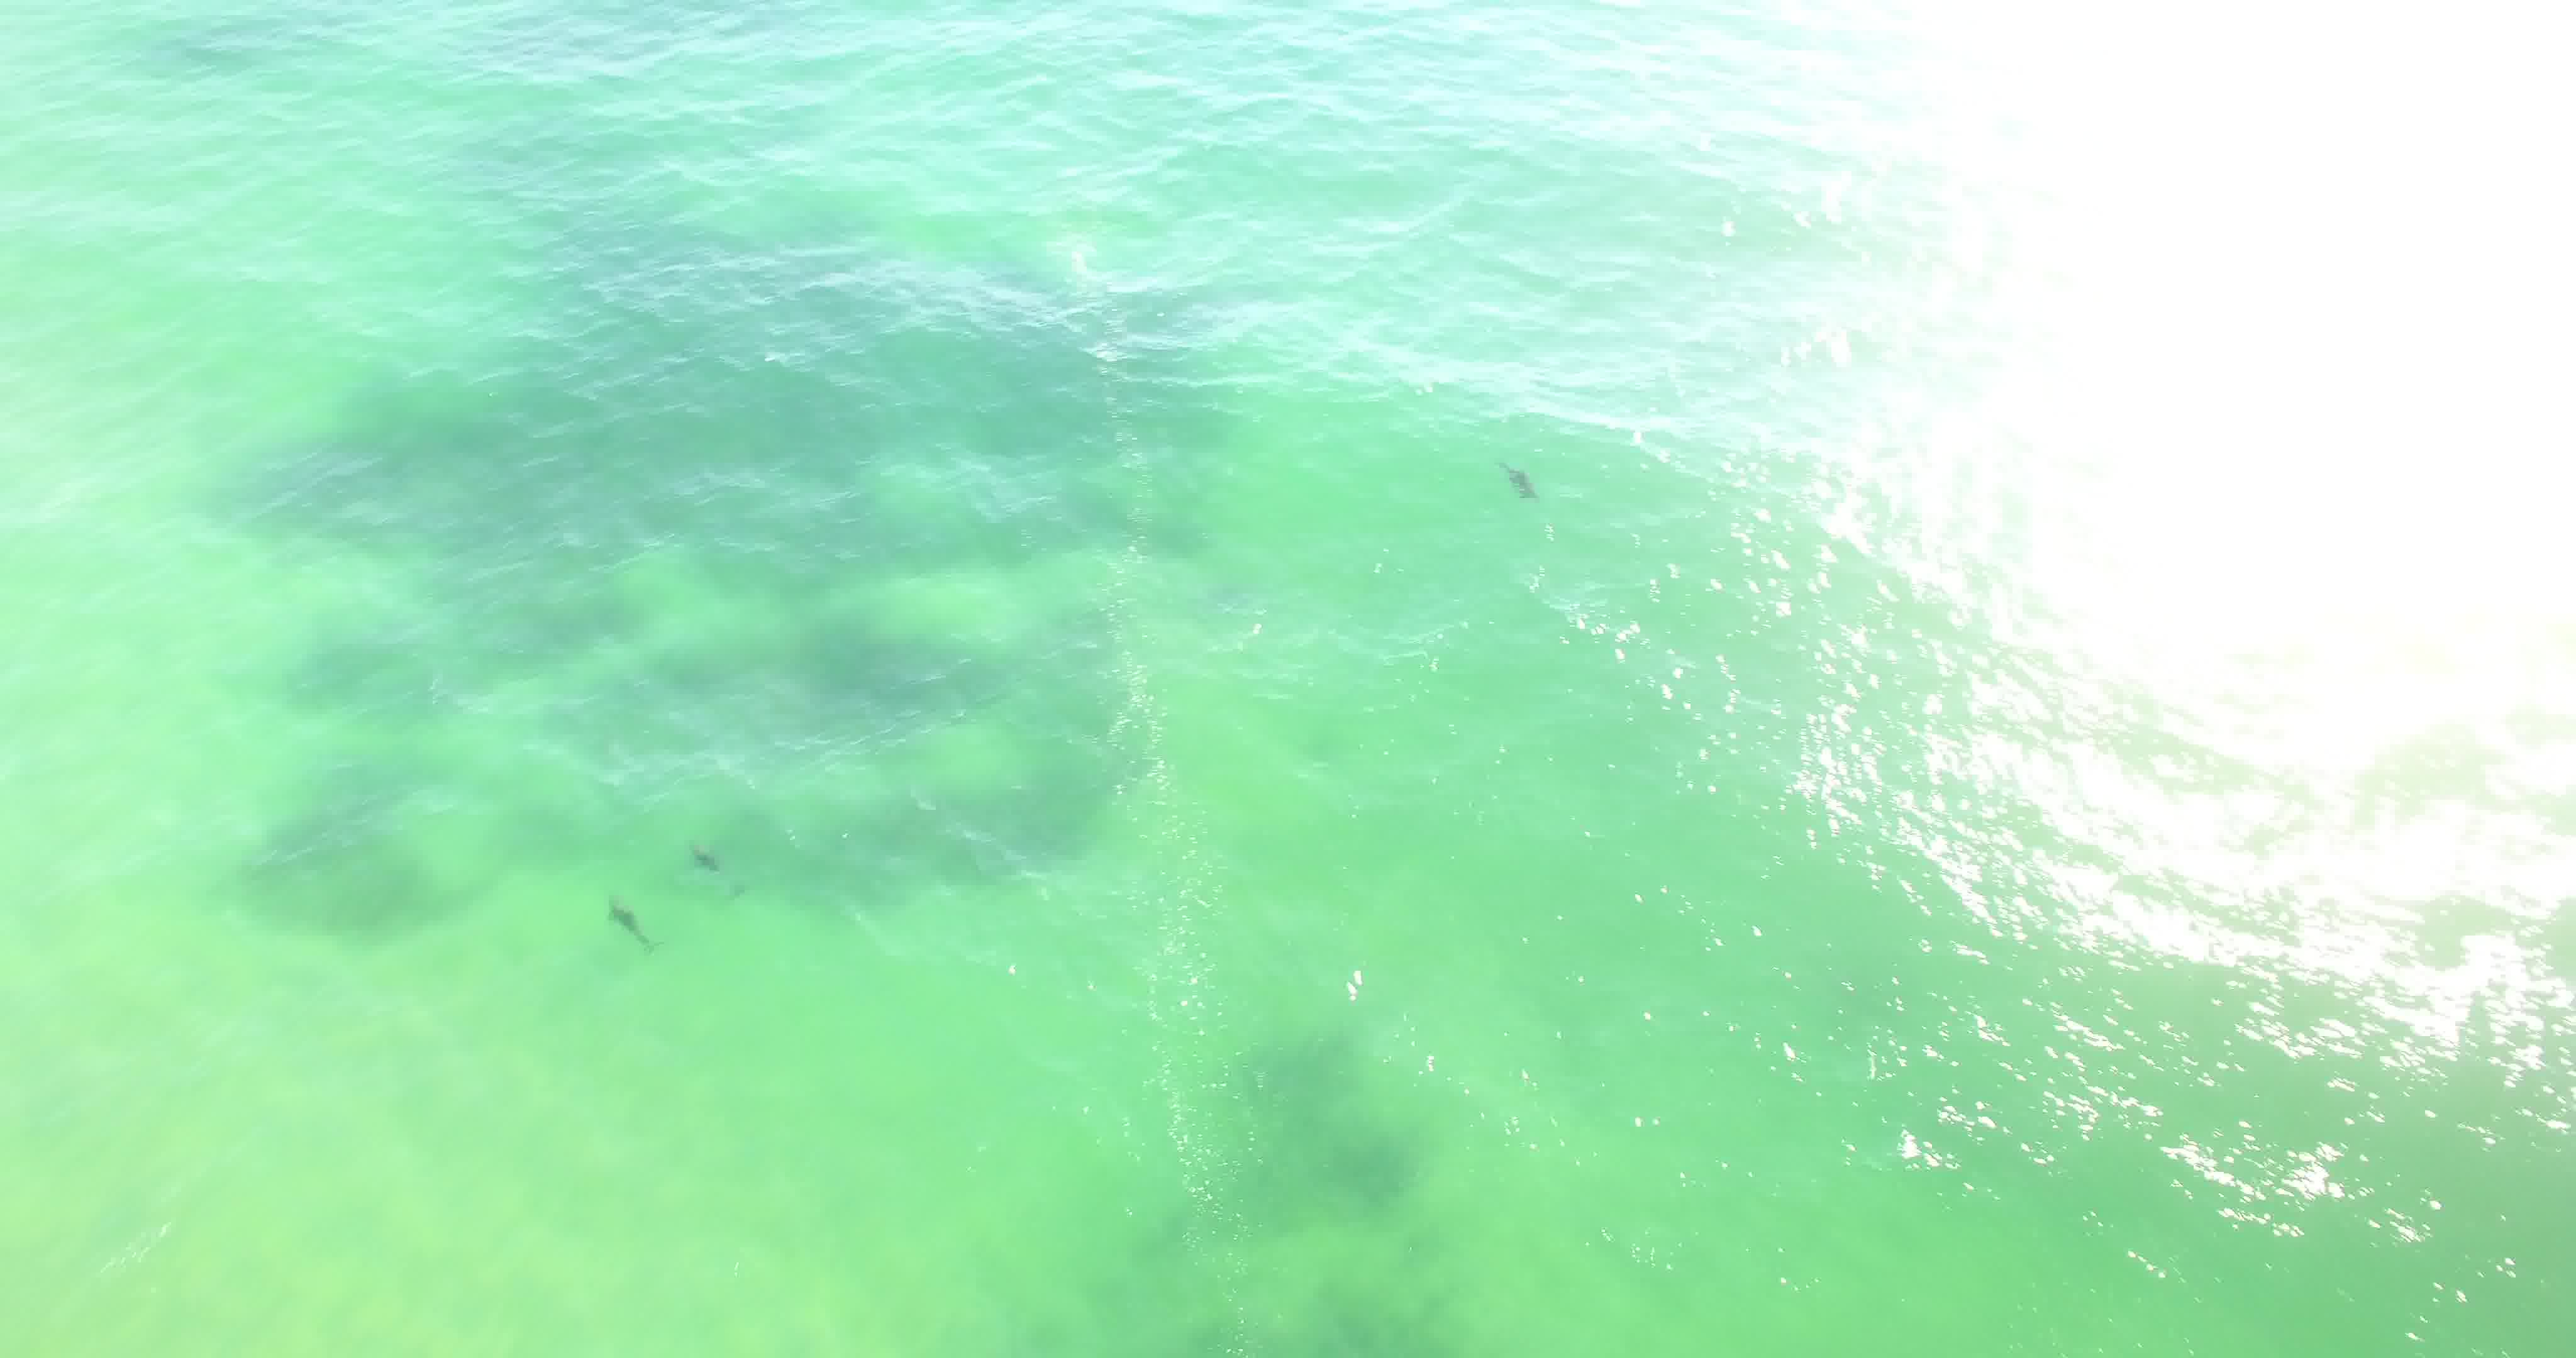dolphin: (1457, 440, 1559, 521), (659, 814, 751, 896), (581, 876, 661, 959)
